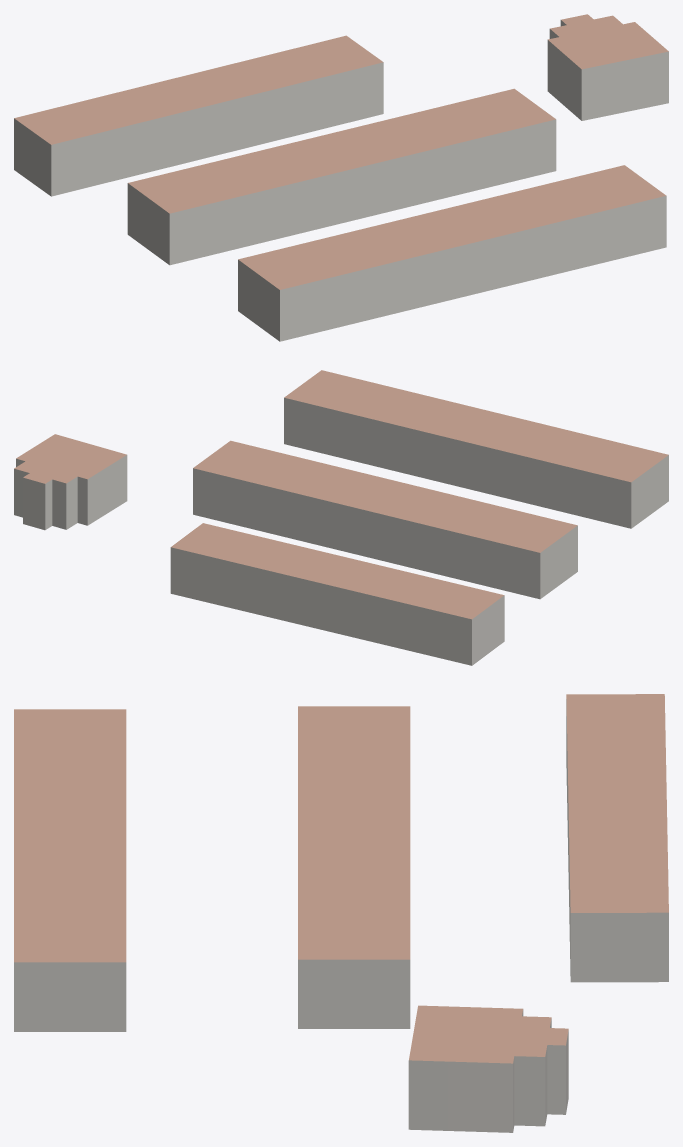
File: gridID_17.dae
3 views of the same model, one above another, from view 1: azimuth 30°, elevation 25°; view 2: azimuth 150°, elevation 25°; view 3: azimuth 270°, elevation 25° (orthographic). The views are drawn at different scales.
Visible parts, largest first — view 1: model_gridID_17_w389539186, model_gridID_17_w389539182, model_gridID_17_w116940032, model_gridID_17_w389702064; view 2: model_gridID_17_w389539182, model_gridID_17_w389539186, model_gridID_17_w116940032, model_gridID_17_w389702064; view 3: model_gridID_17_w389539182, model_gridID_17_w389539186, model_gridID_17_w116940032, model_gridID_17_w389702064.
Boxes of the visible parts, <box> form: model_gridID_17_w389539186: <box>127,88,556,265</box>; model_gridID_17_w389539182: <box>238,165,666,341</box>; model_gridID_17_w116940032: <box>14,35,383,196</box>; model_gridID_17_w389702064: <box>547,14,668,120</box>; model_gridID_17_w389539182: <box>284,370,668,528</box>; model_gridID_17_w389539186: <box>193,440,577,599</box>; model_gridID_17_w116940032: <box>170,523,504,665</box>; model_gridID_17_w389702064: <box>14,434,127,530</box>; model_gridID_17_w389539182: <box>14,709,126,1031</box>; model_gridID_17_w389539186: <box>298,706,410,1028</box>; model_gridID_17_w116940032: <box>566,694,668,982</box>; model_gridID_17_w389702064: <box>408,1005,568,1132</box>.
Size of the model in its own units: 85.66 by 64.17 by 7.5.
